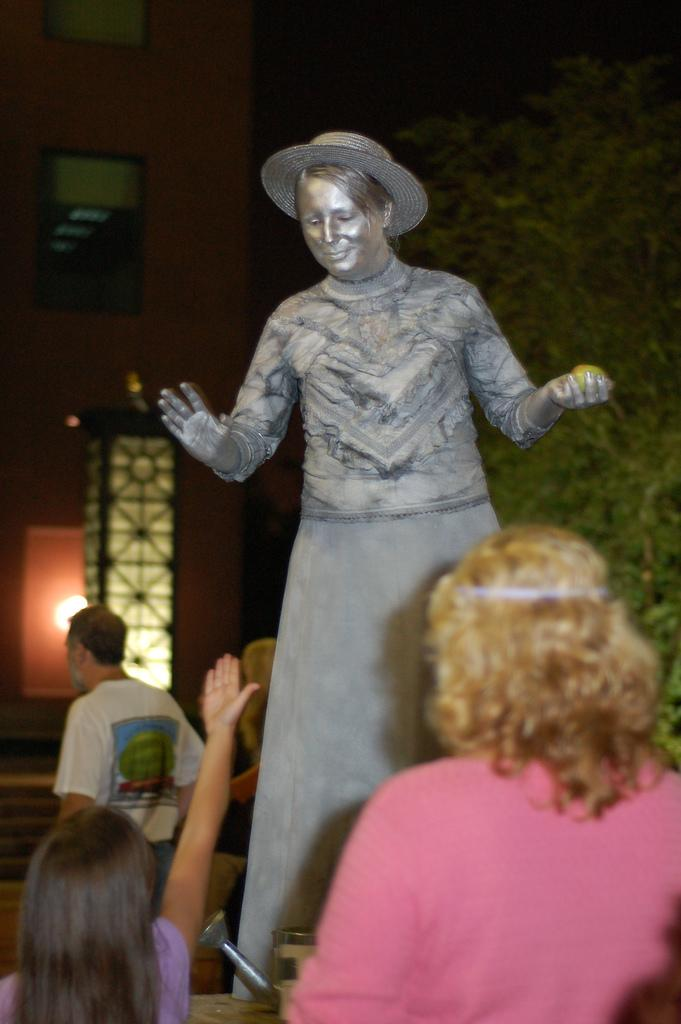Hat: (263, 124, 430, 238)
